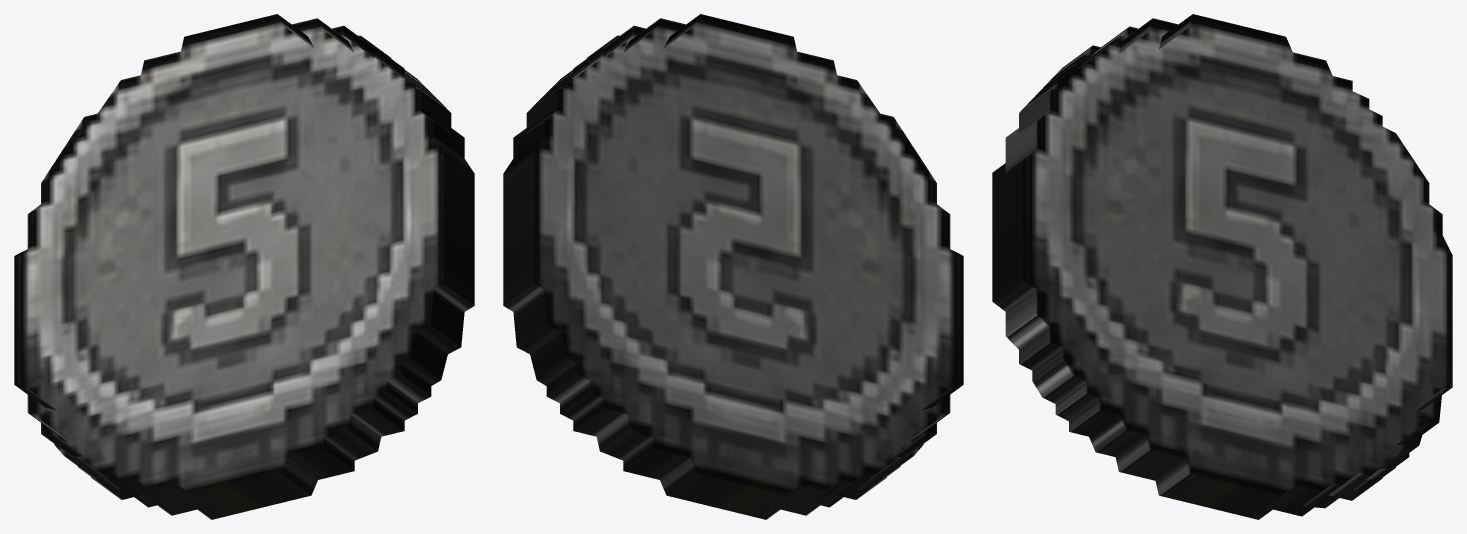
Rendered from coin_5.glb.
3 views of the same model, side by side, from view 1: azimuth 30°, elevation 25°; view 2: azimuth 150°, elevation 25°; view 3: azimuth 330°, elevation 25° (orthographic).
Visible parts, largest first — view 1: world; view 2: world; view 3: world.
Part boxes in pixels (box(x1,y1,x2,y2)): world: box(14, 14, 474, 519); world: box(503, 14, 963, 519); world: box(992, 14, 1452, 519).
Size of the model in its own units: 1.29 by 1.32 by 0.1596.
Materials: 1 (1 with a texture image).
